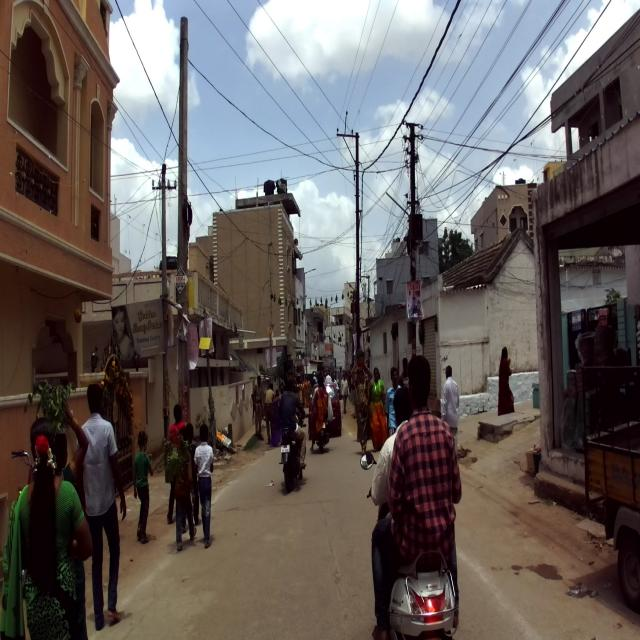autorickshaw: (580, 366, 640, 612)
motorcycle_bajaj: (278, 408, 309, 493)
scooter: (360, 450, 459, 640)
